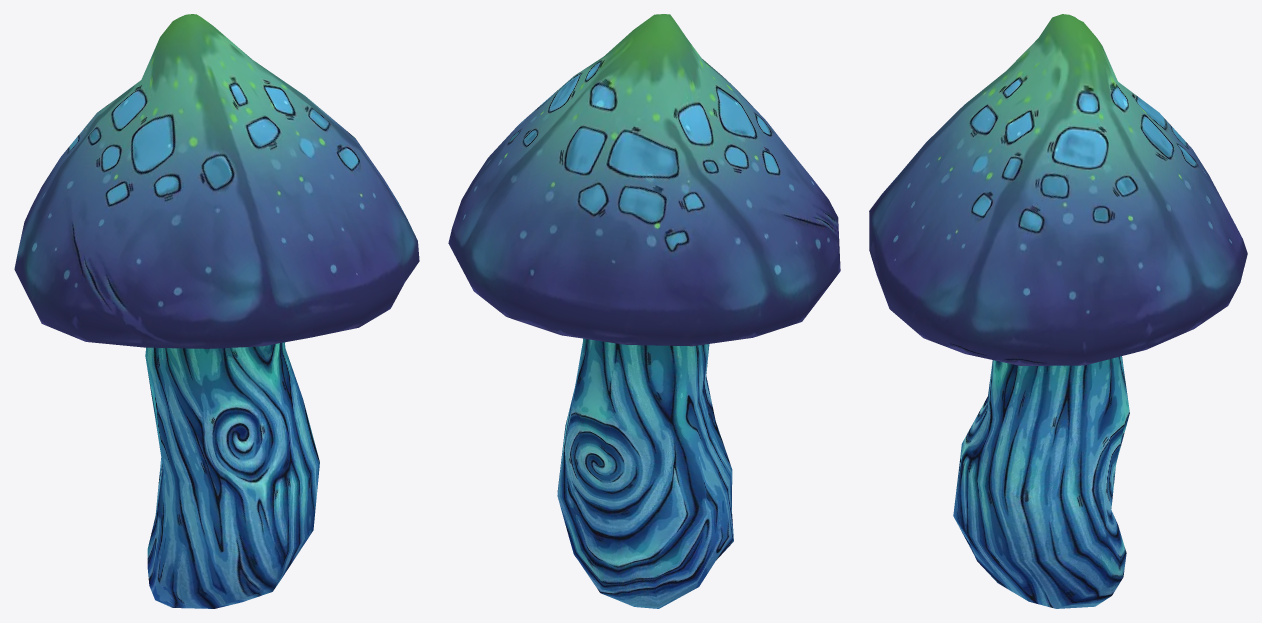
Rendered from stylized_mushroom.glb.
3 renders of one model, left to right at view 1: azimuth 30°, elevation 25°; view 2: azimuth 150°, elevation 25°; view 3: azimuth 270°, elevation 25°, orthographic. The views are drawn at different scales.
Parts seen in each view (by area): view 1: Retopo_grzyb4.002_Default OBJ.028_0; view 2: Retopo_grzyb4.002_Default OBJ.028_0; view 3: Retopo_grzyb4.002_Default OBJ.028_0.
Boxes of the visible parts, left/top/right/bottom form: Retopo_grzyb4.002_Default OBJ.028_0: left=14, top=14, right=419, bottom=608; Retopo_grzyb4.002_Default OBJ.028_0: left=448, top=14, right=840, bottom=608; Retopo_grzyb4.002_Default OBJ.028_0: left=869, top=14, right=1247, bottom=608.
Bounding box in the file's own units: 0.2749 × 0.4423 × 0.2637.
1 material, 1 textured.
